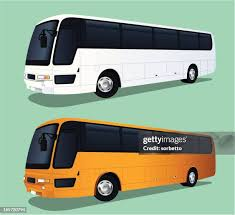bus: (25, 13, 215, 98), (24, 117, 216, 201)
